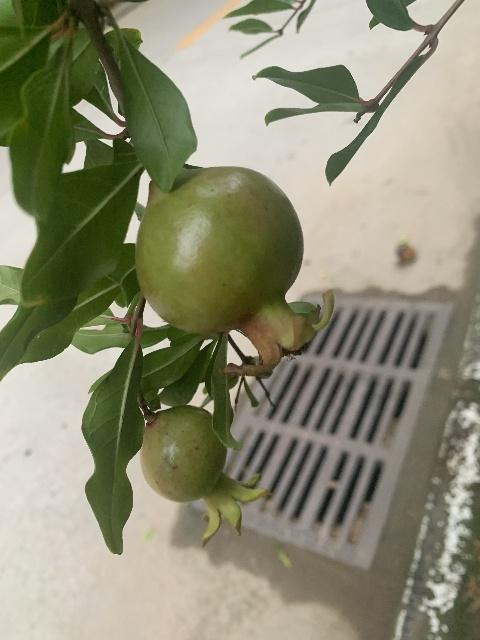mid-growth: (136, 165, 333, 378), (139, 406, 273, 547)
